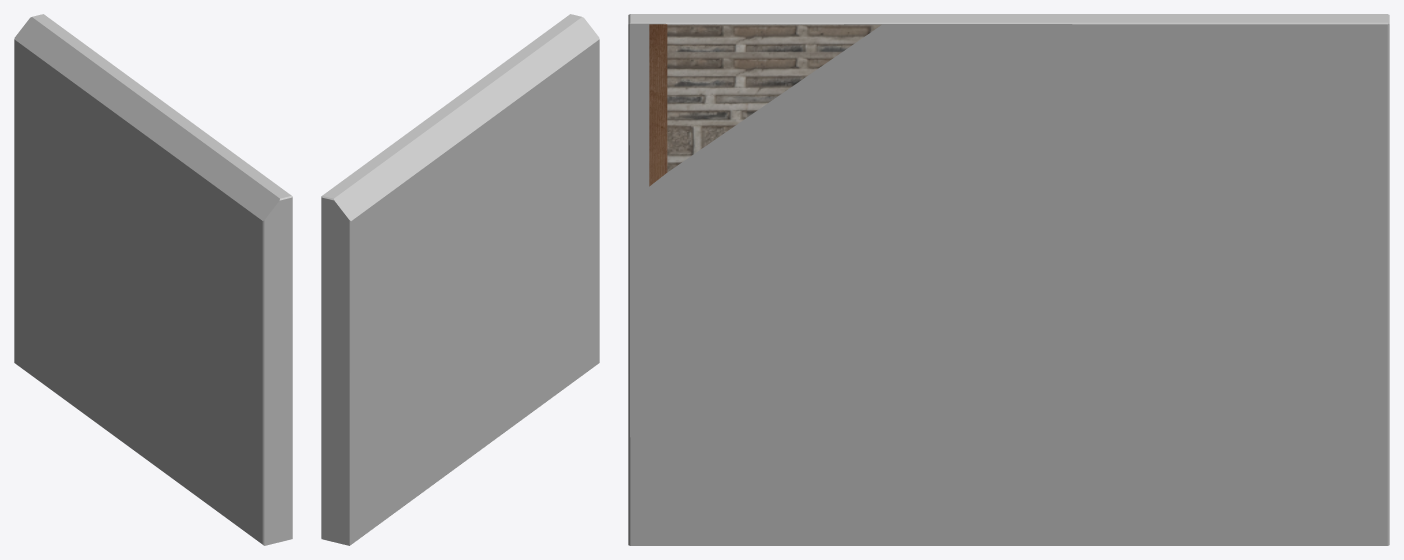
Rendered from SM_HBJ_HG_StoneWallC.fbx.
3 views of the same model, side by side, from view 1: azimuth 30°, elevation 25°; view 2: azimuth 150°, elevation 25°; view 3: azimuth 270°, elevation 25° (orthographic). The views are drawn at different scales.
Visible parts, largest first — view 1: SM_HBJ_HG_StoneWallC_ConvexHulls; view 2: SM_HBJ_HG_StoneWallC_ConvexHulls; view 3: SM_HBJ_HG_StoneWallC_ConvexHulls, SM_HBJ_HG_StoneWallC.
Boxes of the visible parts, left/top/right/bottom form: SM_HBJ_HG_StoneWallC_ConvexHulls: left=14, top=14, right=292, bottom=545; SM_HBJ_HG_StoneWallC_ConvexHulls: left=321, top=14, right=599, bottom=545; SM_HBJ_HG_StoneWallC_ConvexHulls: left=628, top=14, right=1389, bottom=545; SM_HBJ_HG_StoneWallC: left=649, top=24, right=881, bottom=186.
Bounding box in the file's own units: 16.98 × 245 × 186.
Materials: 2 (1 with a texture image).
